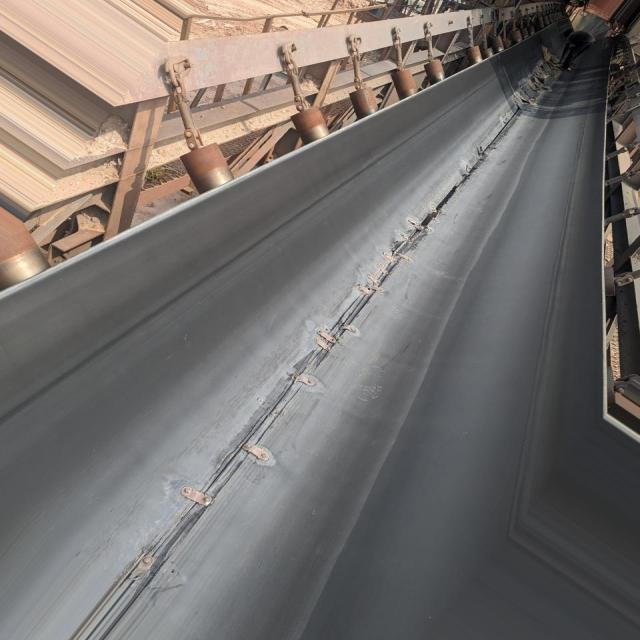Human: (562, 4, 618, 57)
Roller: (25, 37, 520, 278)
Tear: (378, 109, 517, 261)
patch work: (62, 263, 393, 636), (527, 45, 567, 108)
